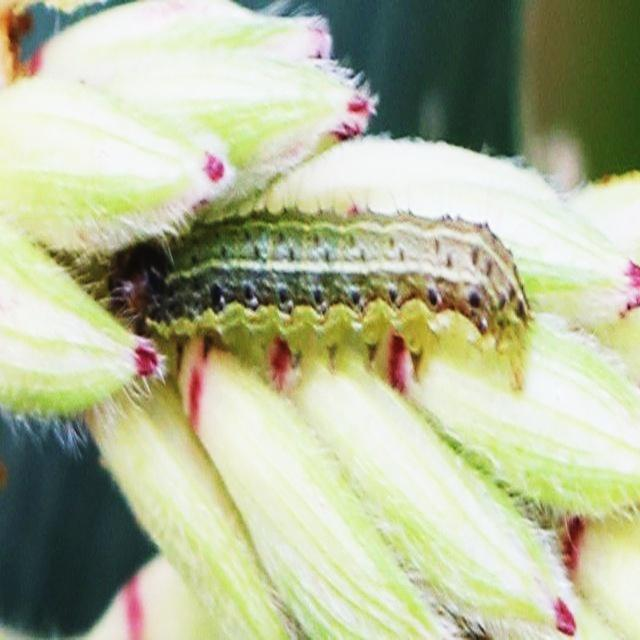gusano_cogollero: (158, 205, 530, 360)
